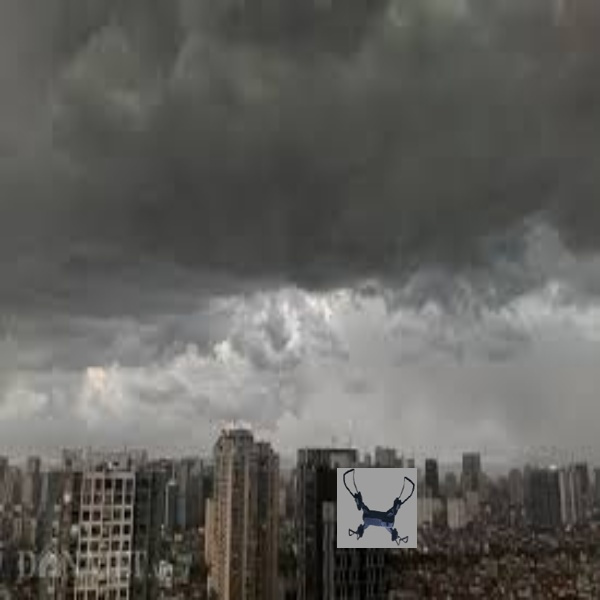drone: (337, 467, 419, 549)
